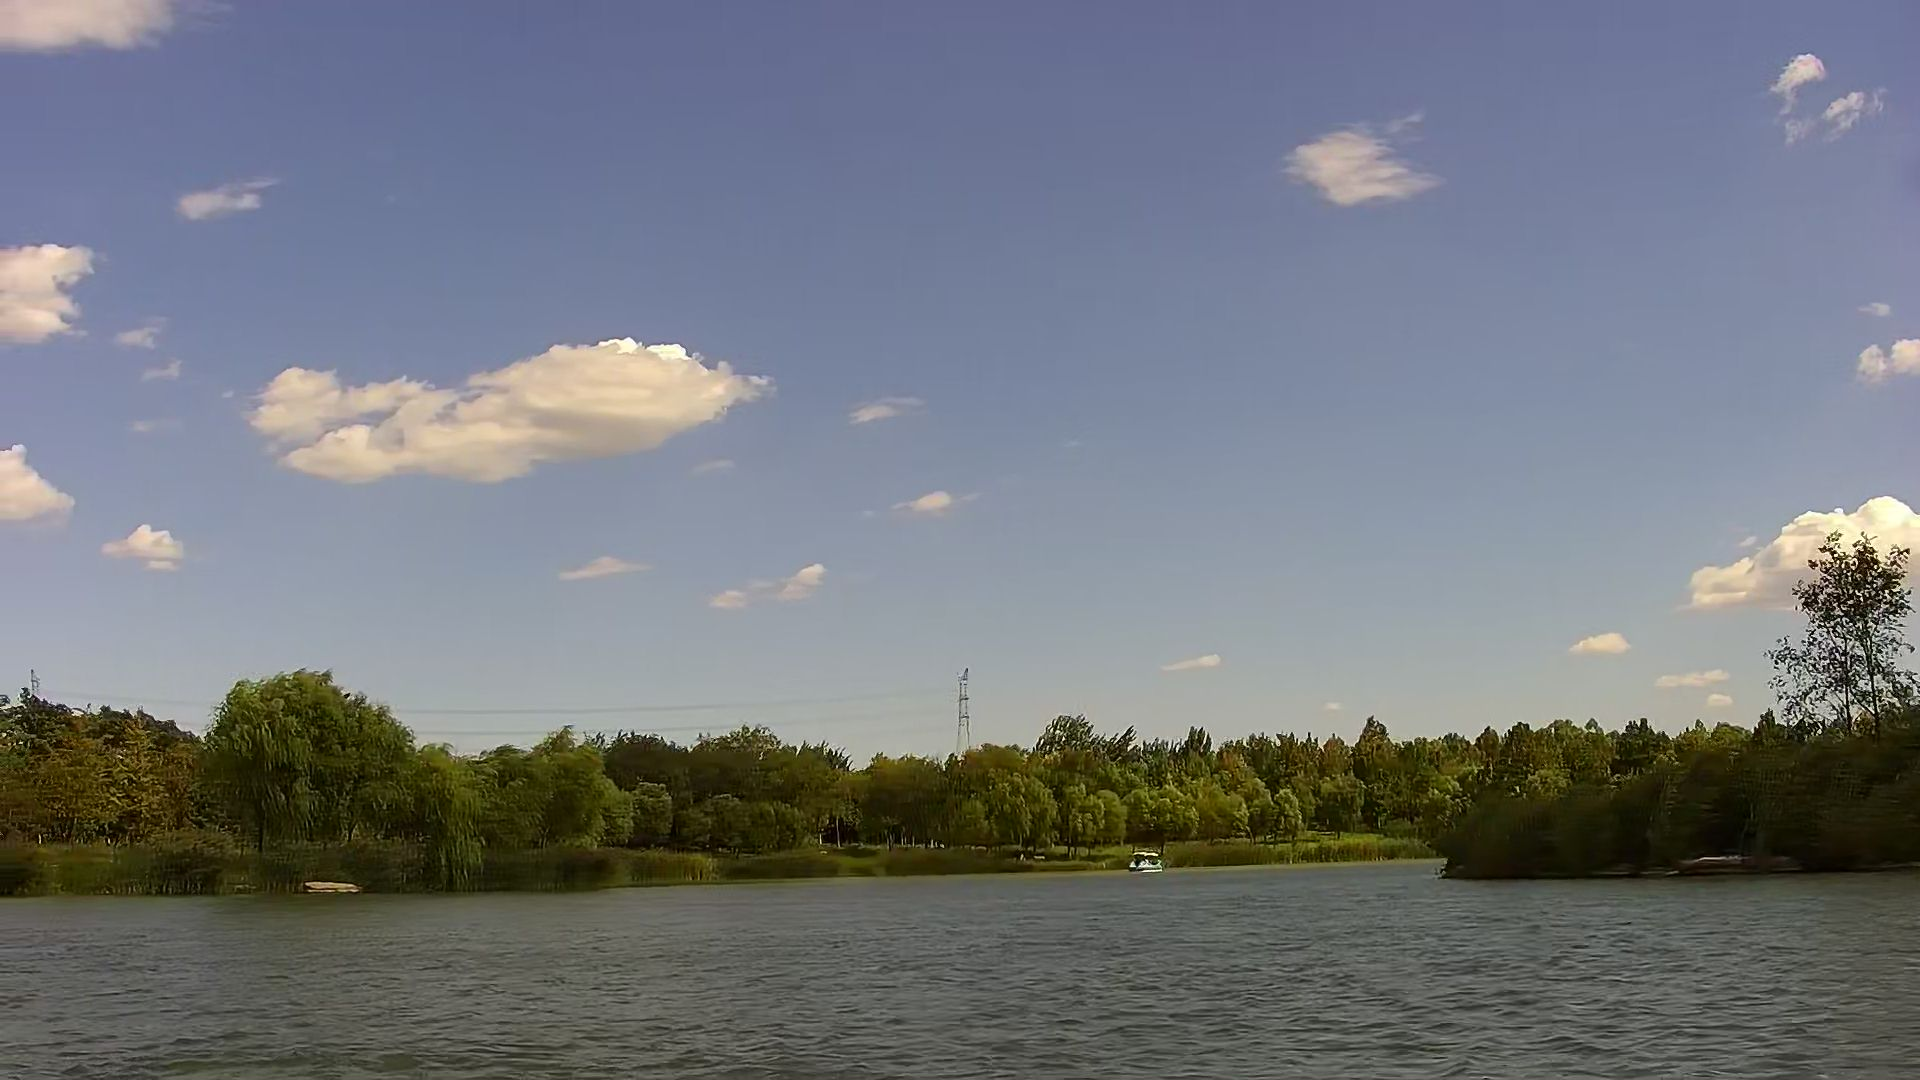boat: (1125, 849, 1160, 877)
rock: (1687, 855, 1766, 872), (305, 877, 352, 895)
